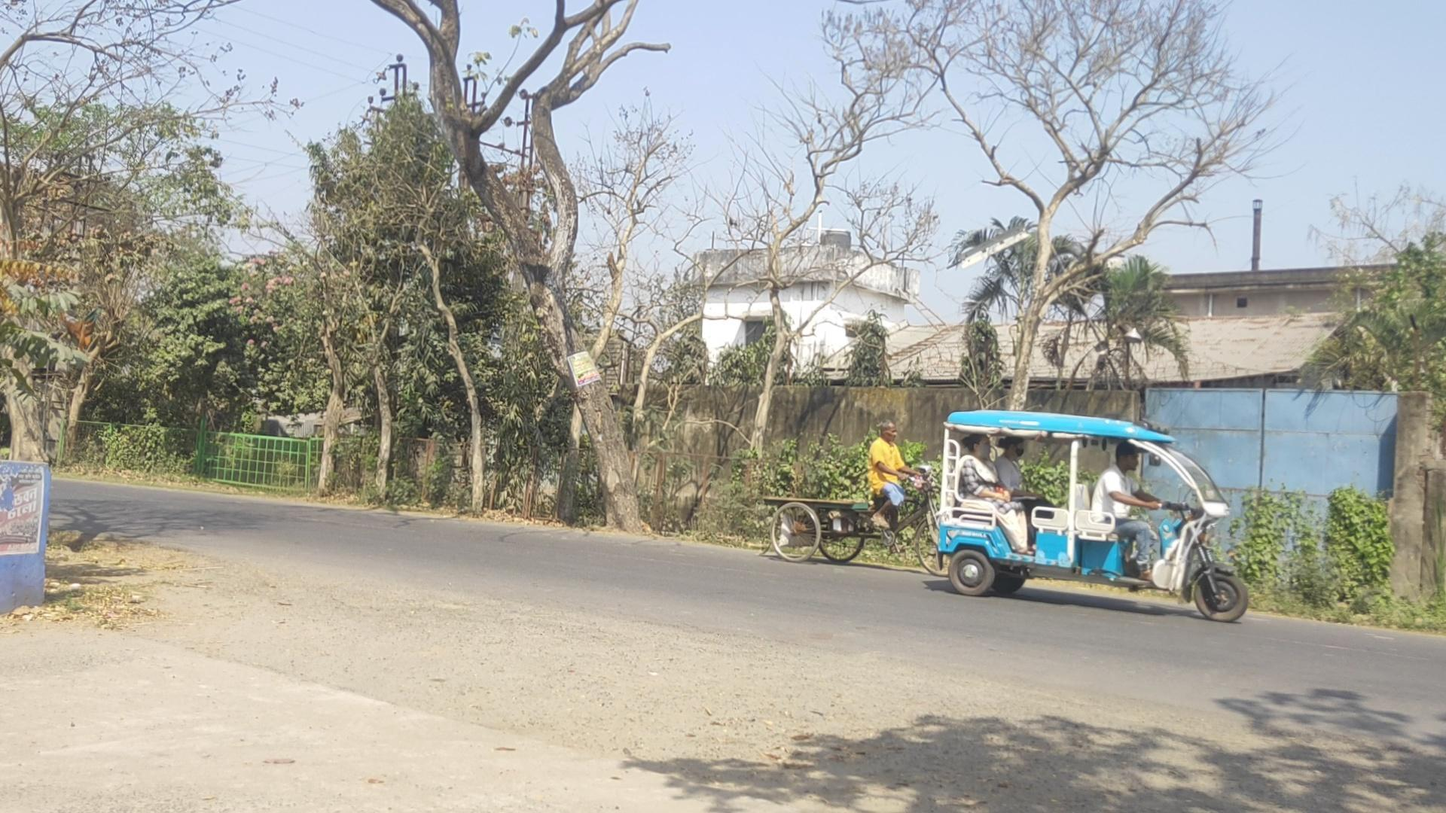Auto: (935, 410, 1249, 623)
